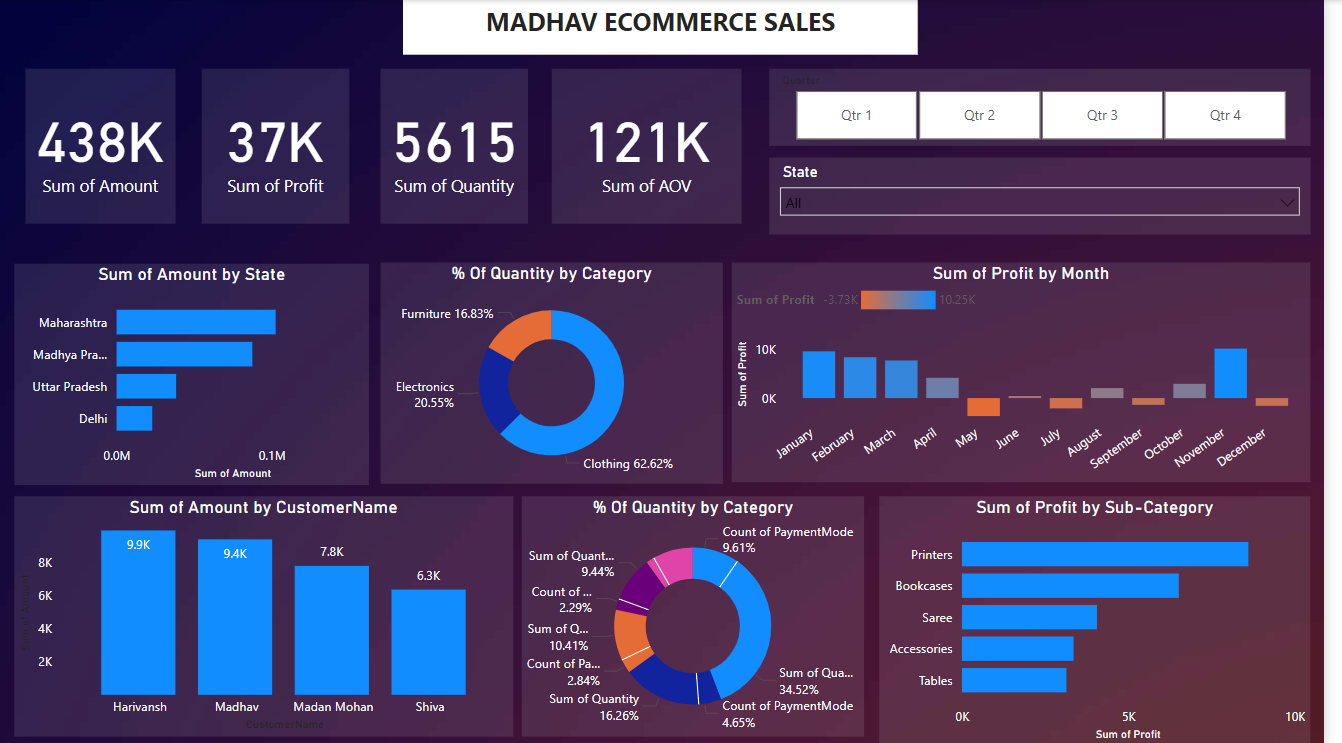

This screenshot's page, from the dashboard's own definition file:
{"tool":"powerbi","page":{"name":"Page 1","canvas":[1280,720],"ordinal":0},"visuals":[{"type":"textbox","box":[390.9,0,497.1,53.1],"z":0},{"type":"columnChart","fields":{"Category":["Orders.Order Date.Variation.Date Hierarchy.Month"],"Y":["Details.Profit"]},"box":[708.2,253.4,558.6,212.3],"z":1000},{"type":"barChart","fields":{"Category":["Details.Sub-Category"],"Y":["Details.Profit"]},"box":[850.5,479,416.2,241.3],"z":2000},{"type":"donutChart","title":"% Of Quantity by Category","fields":{"Category":["Details.Category"],"Y":["Details.Quantity"]},"box":[369.2,253.4,330.6,213.5],"z":3000},{"type":"donutChart","title":"% Of Quantity by Category","fields":{"Category":["Details.PaymentMode"],"Y":["Details.PaymentMode","Details.Quantity"]},"box":[505.5,479,330.6,231.6],"z":4000},{"type":"card","fields":{"Values":["Details.Amount"]},"box":[26.5,66.4,144.8,149.6],"z":5000},{"type":"card","fields":{"Values":["Details.Profit"]},"box":[196.6,66.4,142.4,149.6],"z":6000},{"type":"card","fields":{"Values":["Details.Quantity"]},"box":[369.2,66.4,142.4,149.6],"z":7000},{"type":"card","fields":{"Values":["Details.AOV"]},"box":[534.5,66.4,183.4,149.6],"z":8000},{"type":"barChart","fields":{"Category":["Orders.State"],"Y":["Details.Amount"]},"box":[15.7,254.6,342.6,213.5],"z":9000},{"type":"columnChart","fields":{"Category":["Orders.CustomerName"],"Y":["Details.Amount"]},"box":[15.7,479,481.4,231.6],"z":10000},{"type":"slicer","fields":{"Values":["Orders.Order Date.Variation.Date Hierarchy.Quarter"]},"box":[744.4,66.4,522.4,74.8],"z":11000},{"type":"slicer","fields":{"Values":["Orders.State"]},"box":[744.4,152,522.4,74.8],"z":12000}]}

Visuals, with their boxes in screenshot pixels (x1, y1, x2, y2), scaled from the page's 1280x720 canvas onto the 1342x743 screenshot:
textbox: 410:0:931:55
columnChart - Orders.Order Date.Variation.Date Hierarchy.Month x Details.Profit: 743:261:1328:481
barChart - Details.Sub-Category x Details.Profit: 892:494:1328:742
"% Of Quantity by Category" donutChart: 387:261:734:482
"% Of Quantity by Category" donutChart: 530:494:877:733
card - Details.Amount: 28:69:180:223
card - Details.Profit: 206:69:355:223
card - Details.Quantity: 387:69:536:223
card - Details.AOV: 560:69:753:223
barChart - Orders.State x Details.Amount: 16:263:376:483
columnChart - Orders.CustomerName x Details.Amount: 16:494:521:733
slicer - Orders.Order Date.Variation.Date Hierarchy.Quarter: 780:69:1328:146
slicer - Orders.State: 780:157:1328:234
